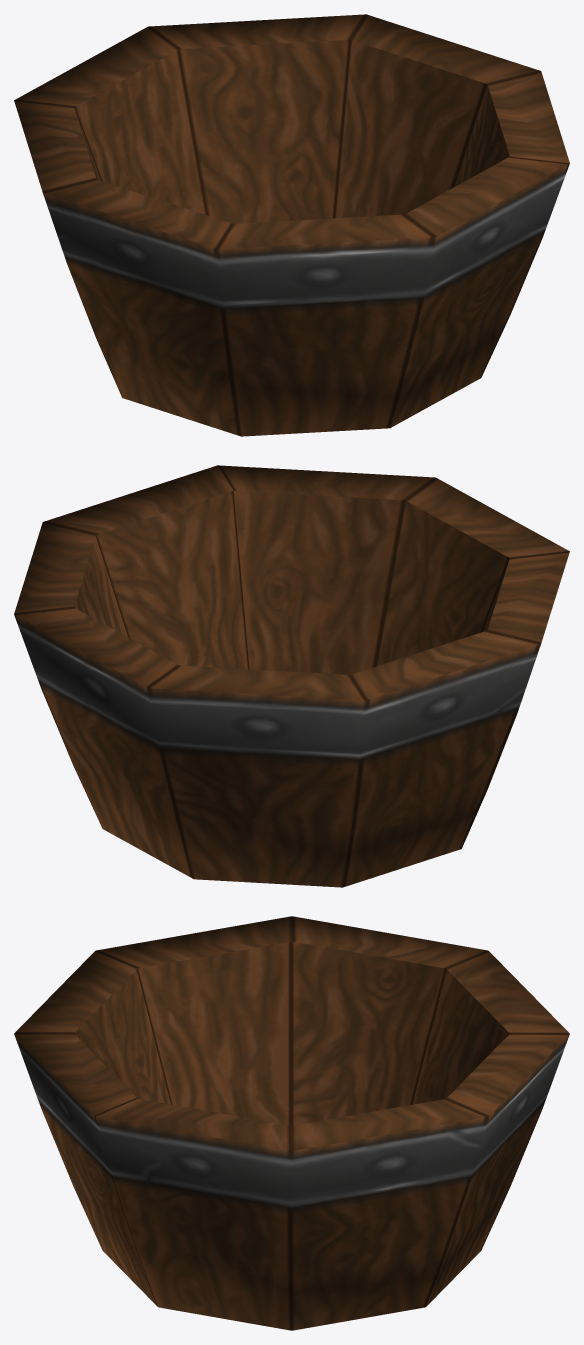
The model's file is bucket_01_empty.fbx.
3 renders of one model, top to bottom at view 1: azimuth 30°, elevation 25°; view 2: azimuth 150°, elevation 25°; view 3: azimuth 270°, elevation 25°, orthographic. The views are drawn at different scales.
Visible parts, largest first — view 1: bucket_01; view 2: bucket_01; view 3: bucket_01.
Boxes of the visible parts, x1,y1,x2,y2 form: bucket_01: (14, 14, 569, 436); bucket_01: (14, 465, 569, 887); bucket_01: (14, 916, 569, 1330).
Bounding box in the file's own units: 0.2637 × 0.1136 × 0.2637.
